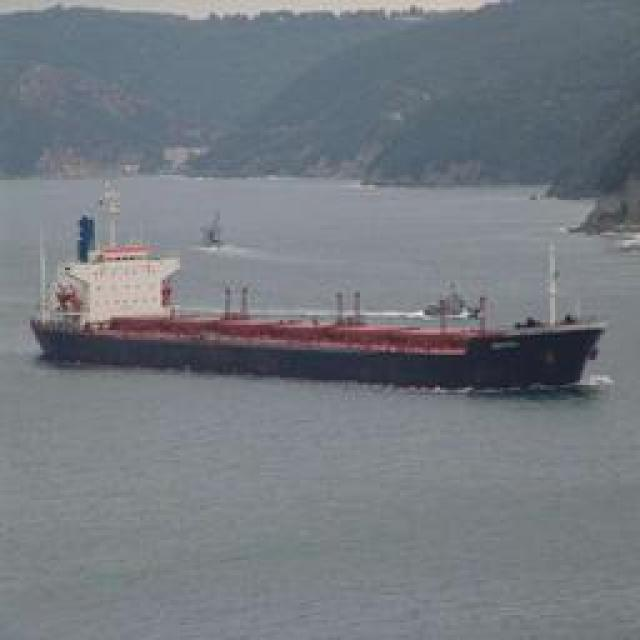ship2: (29, 177, 610, 390)
